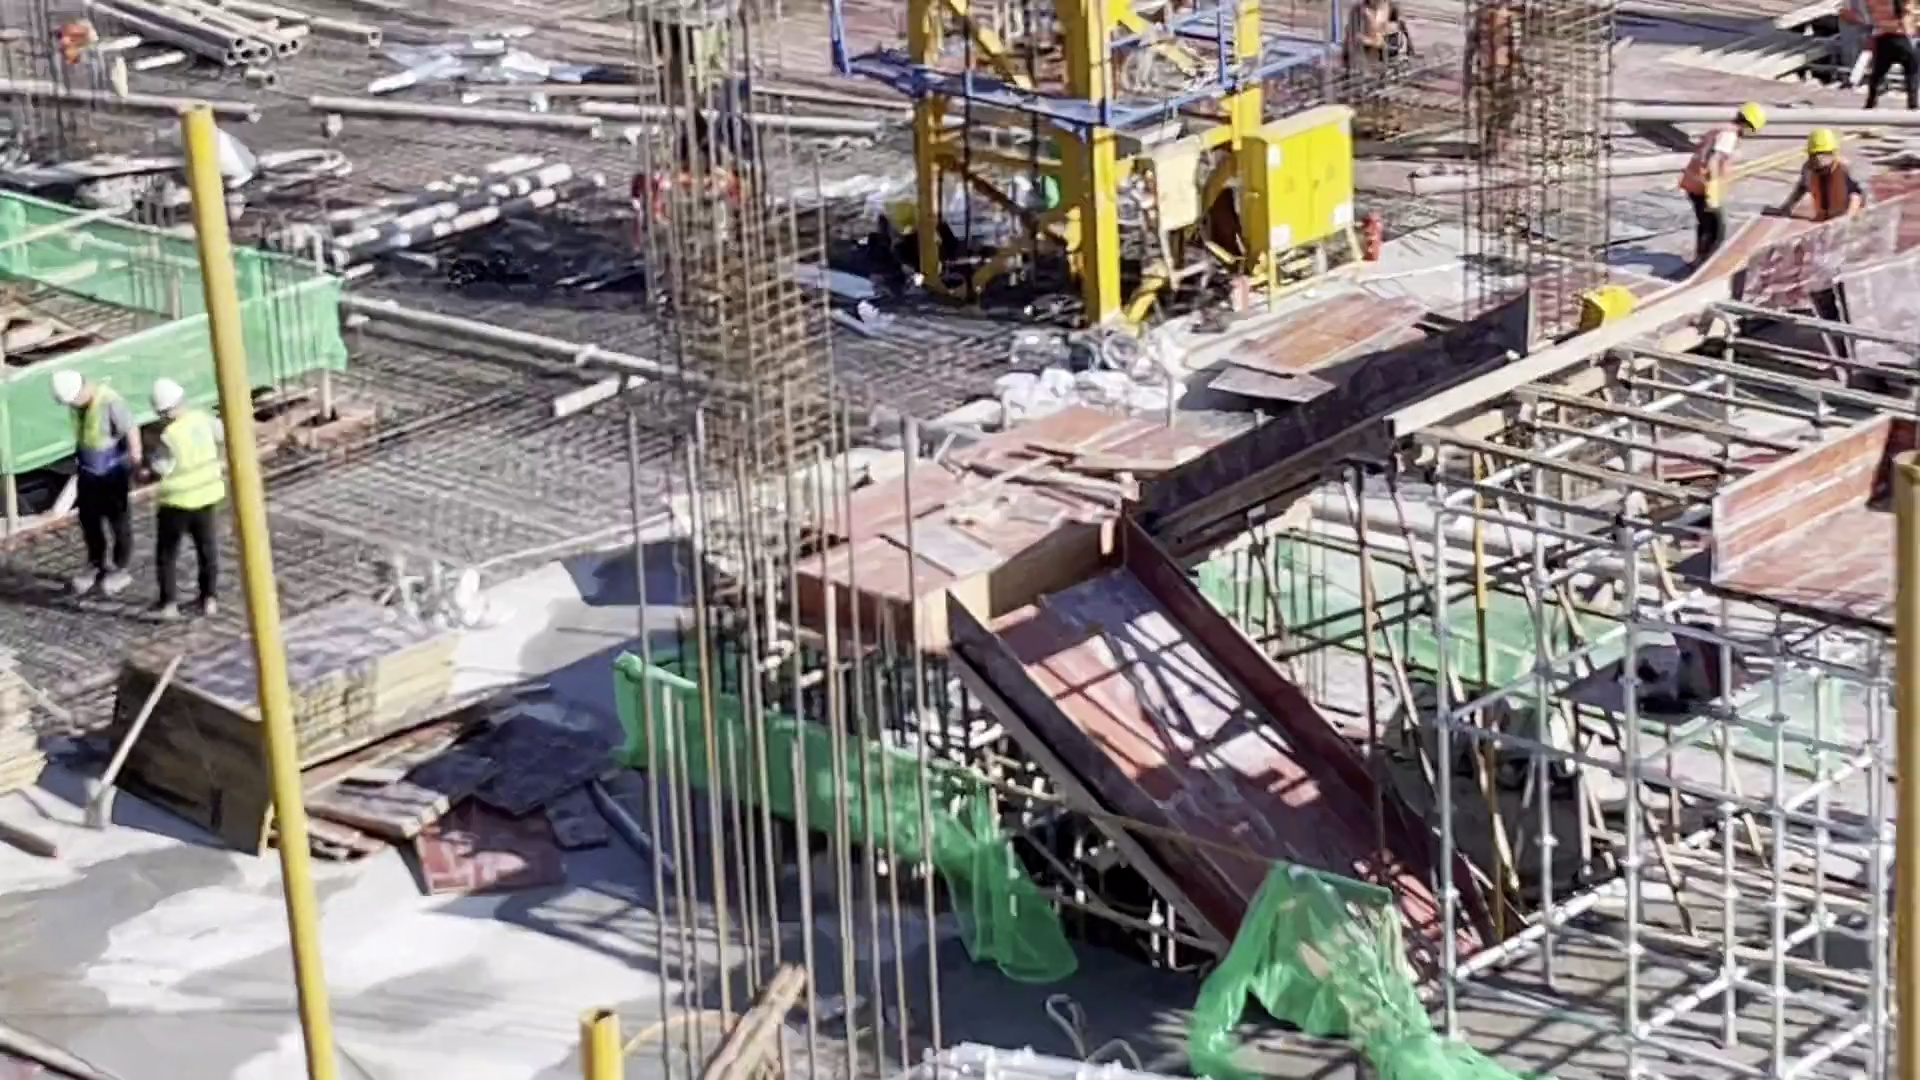helmet: (1809, 125, 1841, 160), (51, 376, 88, 403), (147, 383, 184, 409), (889, 201, 922, 230), (1733, 105, 1766, 131)
person: (48, 374, 143, 611), (144, 389, 229, 635), (1682, 94, 1752, 275), (1791, 127, 1880, 228), (1478, 4, 1526, 161), (869, 194, 957, 272), (1858, 5, 1920, 111), (1345, 1, 1419, 68)
vest: (157, 414, 226, 512), (66, 394, 129, 473), (1684, 127, 1735, 195), (1804, 165, 1854, 228), (1483, 17, 1524, 77), (1872, 2, 1911, 43), (1361, 5, 1396, 43)
